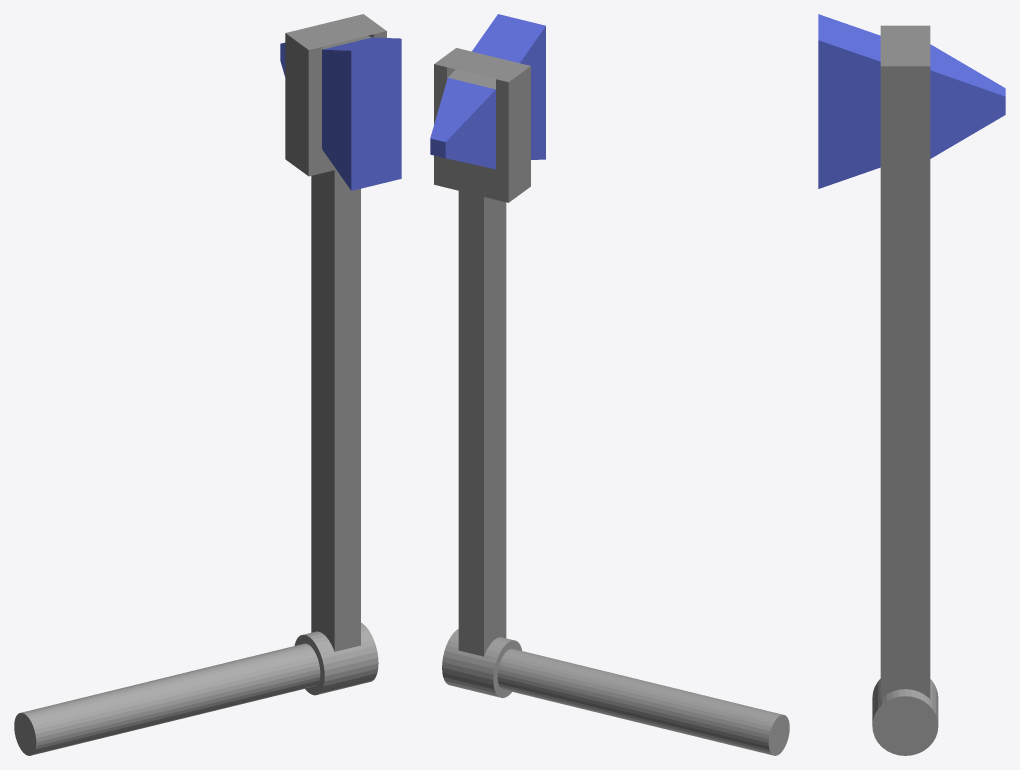
Rendered from Hammer.fbx.
3 views of the same model, side by side, from view 1: azimuth 30°, elevation 25°; view 2: azimuth 150°, elevation 25°; view 3: azimuth 270°, elevation 25° (orthographic). The views are drawn at different scales.
Visible parts, largest first — view 1: Cylinder; view 2: Cylinder; view 3: Cylinder.
Boxes of the visible parts, x1,y1,x2,y2 form: Cylinder: (14, 14, 401, 755); Cylinder: (430, 14, 789, 755); Cylinder: (818, 14, 1005, 755).
Size of the model in its own units: 412 by 756 by 180.
